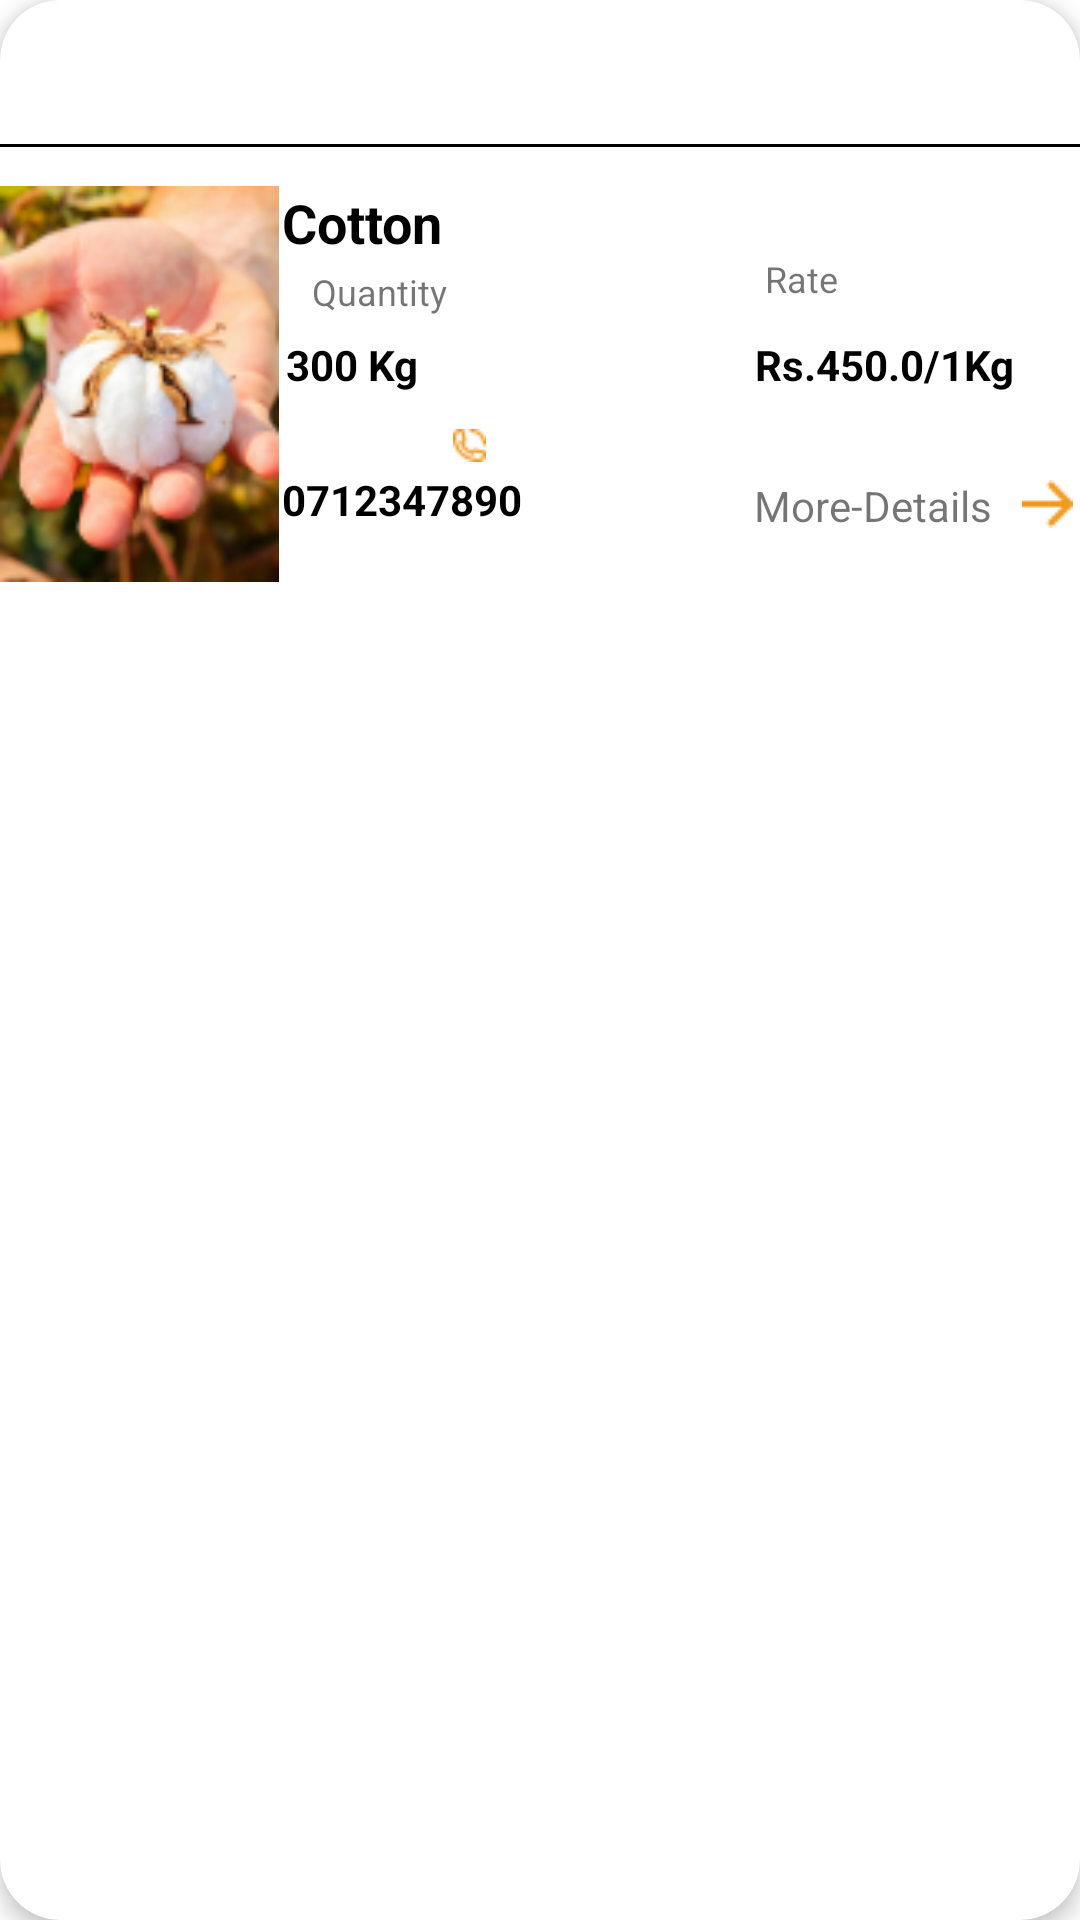

Screen size 1080px x 1920px. Icon name, then its box in pixels as [x1=x1, y1=y1, x2=x2, y2=y2]:
arrow: [x1=1022, y1=480, x2=1073, y2=528]
